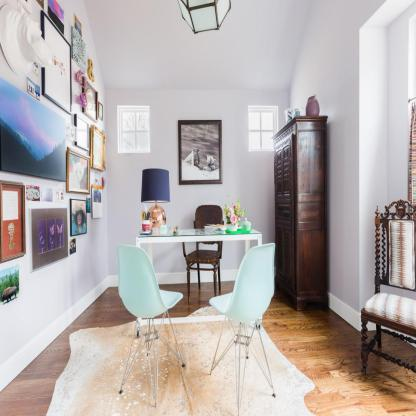chair: (211, 234, 285, 416), (109, 242, 184, 409), (362, 199, 416, 392), (182, 207, 234, 299)
light: (138, 162, 176, 241), (173, 2, 240, 38)
table: (127, 225, 268, 328)
